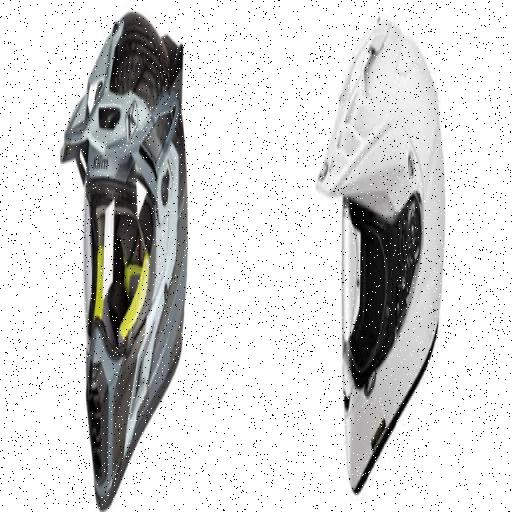Helmet: (61, 14, 187, 508), (317, 20, 444, 491)
